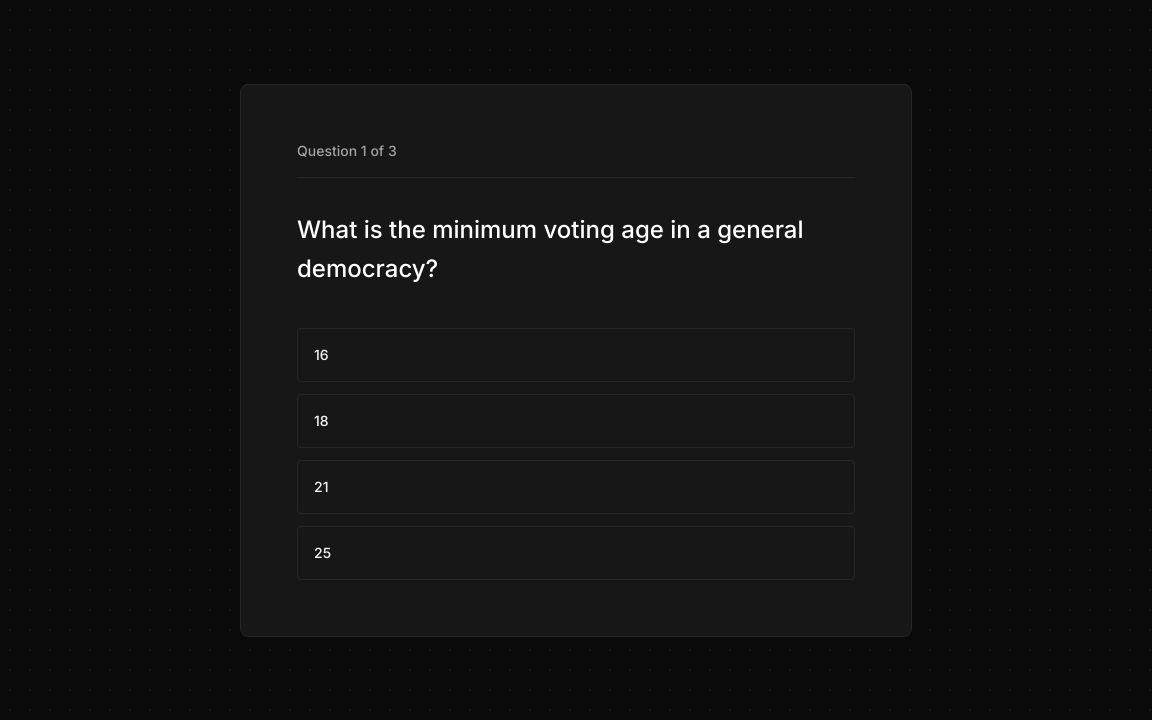
Test case: Quiz component › disables all answer buttons after selection
This screenshot has width=1152, height=720.
Click the button "16".
click(321, 354)  # box [297, 328, 855, 382]
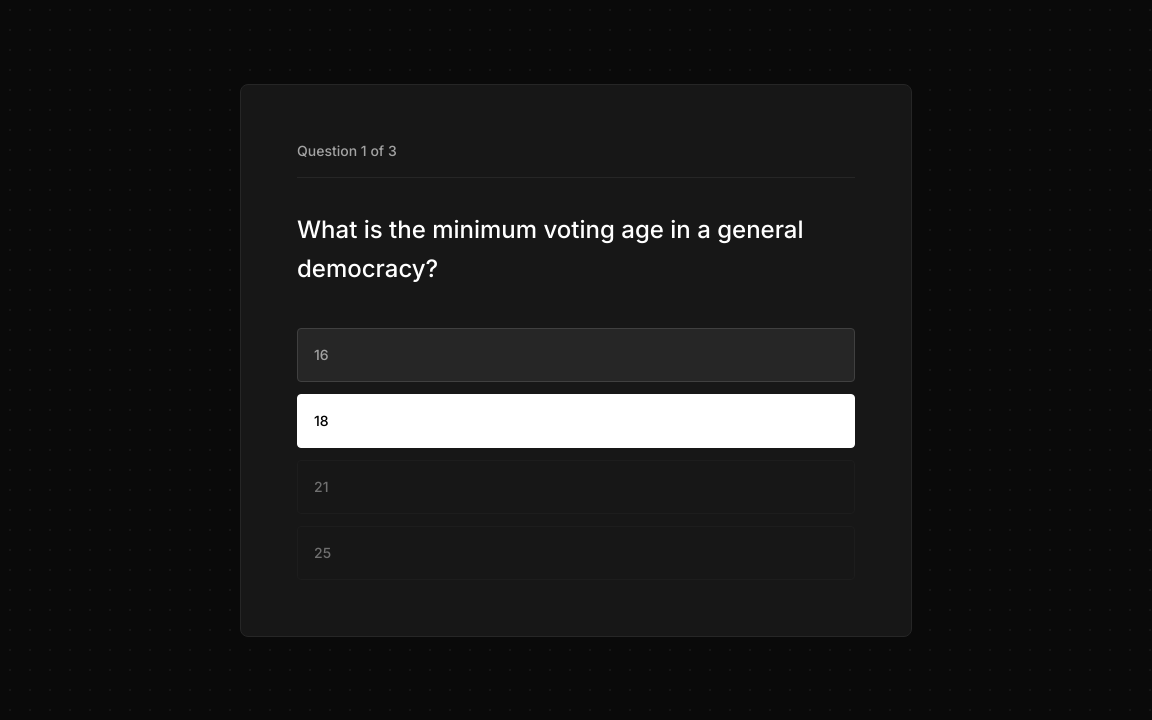
Now the button "16" is disabled, box [297, 328, 855, 382]
Now the button "18" is disabled, box [297, 394, 855, 448]
Now the button "21" is disabled, box [297, 460, 855, 514]
